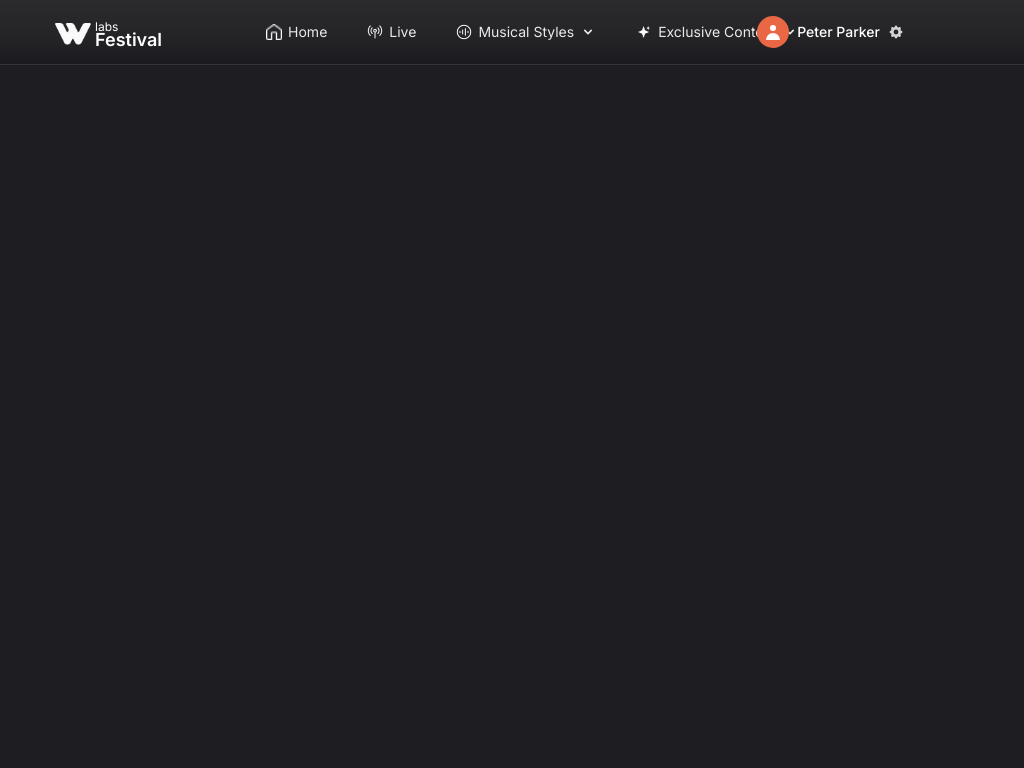
Header › abre o modal do usuário ao clicar no botão do perfil
Expected: the text "Meu perfil" is not shown
Click the button with aria-label "menu do usuário" at point(831, 32), box [749, 10, 912, 54]
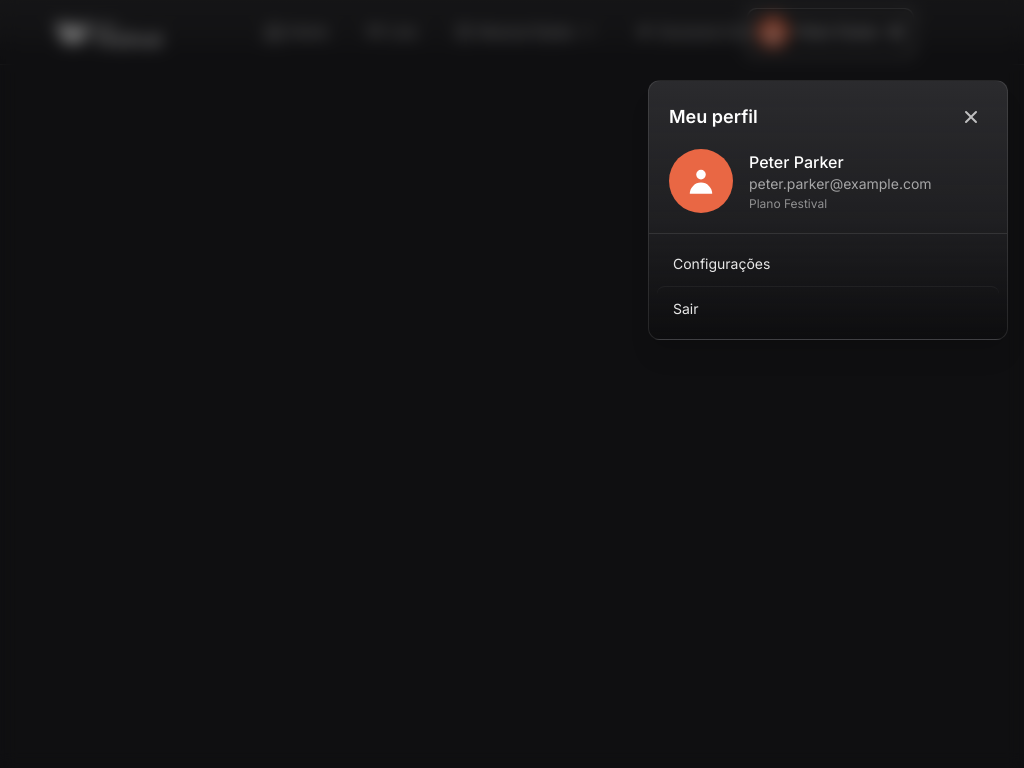
Expected: the heading "Meu perfil" is shown, [669, 103, 758, 131]
Expected: the button "Configurações" is shown, [657, 242, 999, 286]
Expected: the button "Sair" is shown, [657, 286, 999, 331]
